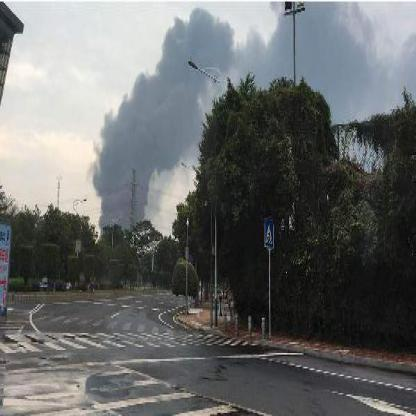smoke: (305, 4, 414, 82), (200, 13, 289, 68), (100, 114, 188, 164), (162, 30, 196, 112), (93, 166, 128, 214), (121, 74, 157, 110)
